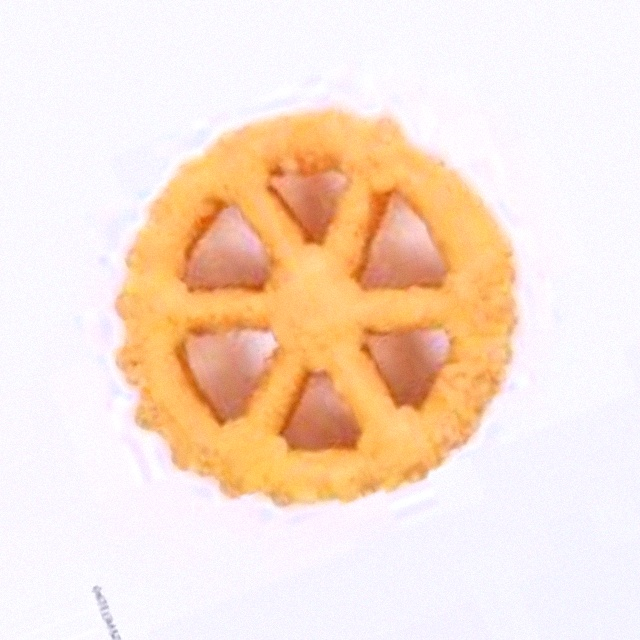Kokis: (126, 101, 514, 539)
